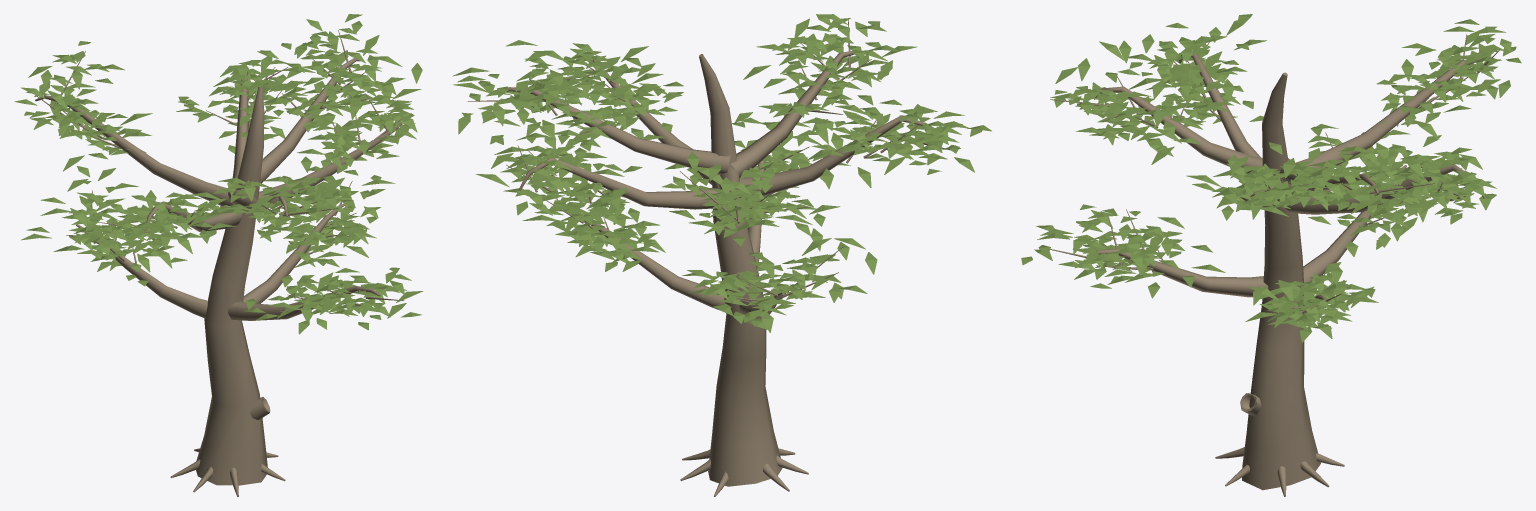
Rendered from hero_lod1.glb.
3 renders of one model, left to right at view 1: azimuth 30°, elevation 25°; view 2: azimuth 150°, elevation 25°; view 3: azimuth 270°, elevation 25°, orthographic. The views are drawn at different scales.
Parts seen in each view (by area): view 1: Leaves, Bark; view 2: Leaves, Bark; view 3: Leaves, Bark.
Part boxes in pixels (box(x1,y1,x2,y2)): Leaves: box(14, 14, 423, 334); Bark: box(35, 30, 404, 496); Leaves: box(452, 14, 991, 332); Bark: box(467, 20, 951, 496); Leaves: box(1021, 14, 1521, 342); Bark: box(1050, 34, 1500, 496).
Size of the model in its own units: 14.06 by 12.44 by 13.49.
